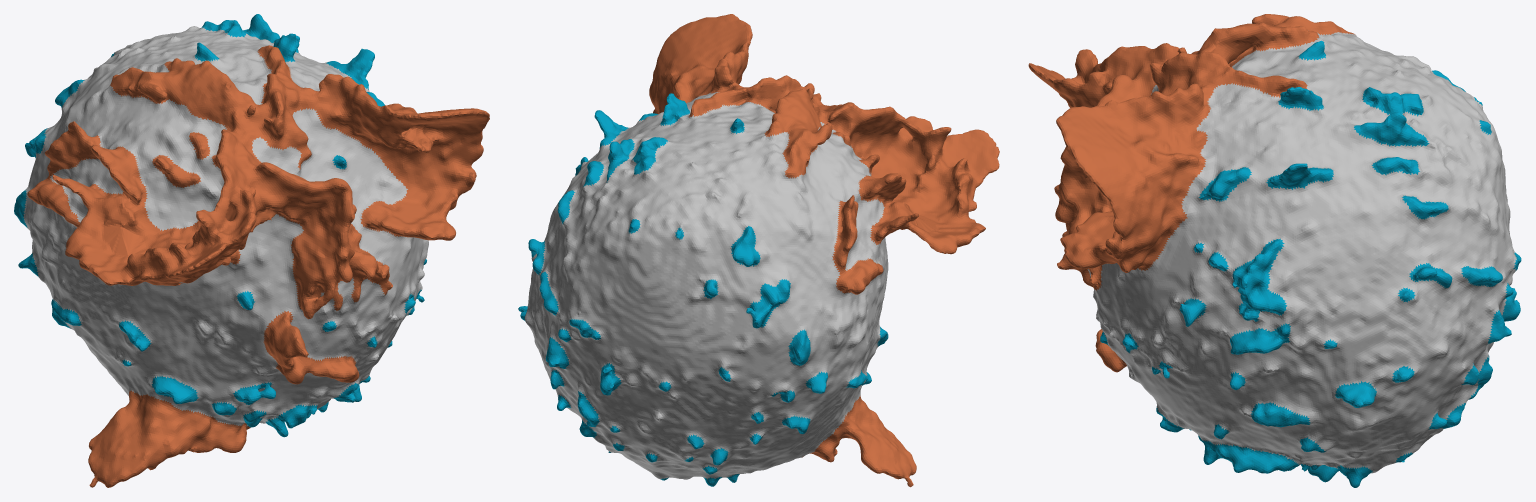
The picture shows the model from 3 angles, left to right: view 1: azimuth 30°, elevation 25°; view 2: azimuth 150°, elevation 25°; view 3: azimuth 270°, elevation 25°; orthographic projection. The views are drawn at different scales.
Bounding box in the file's own units: 166 × 159 × 168.
